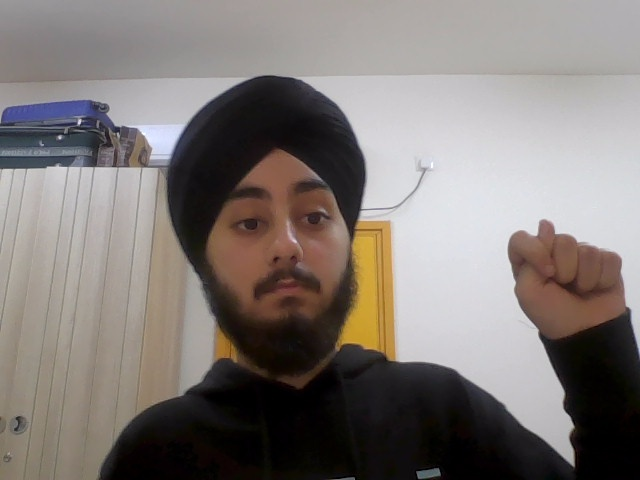Bathroom: (504, 217, 630, 336)
